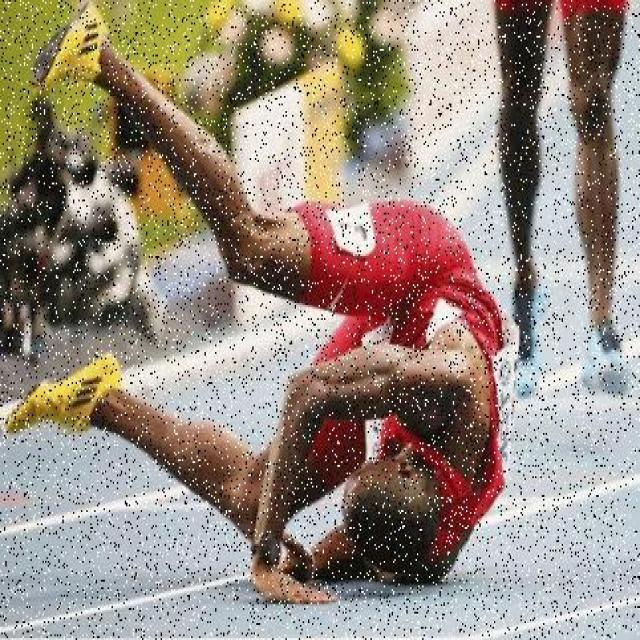fall: (130, 168, 511, 588)
